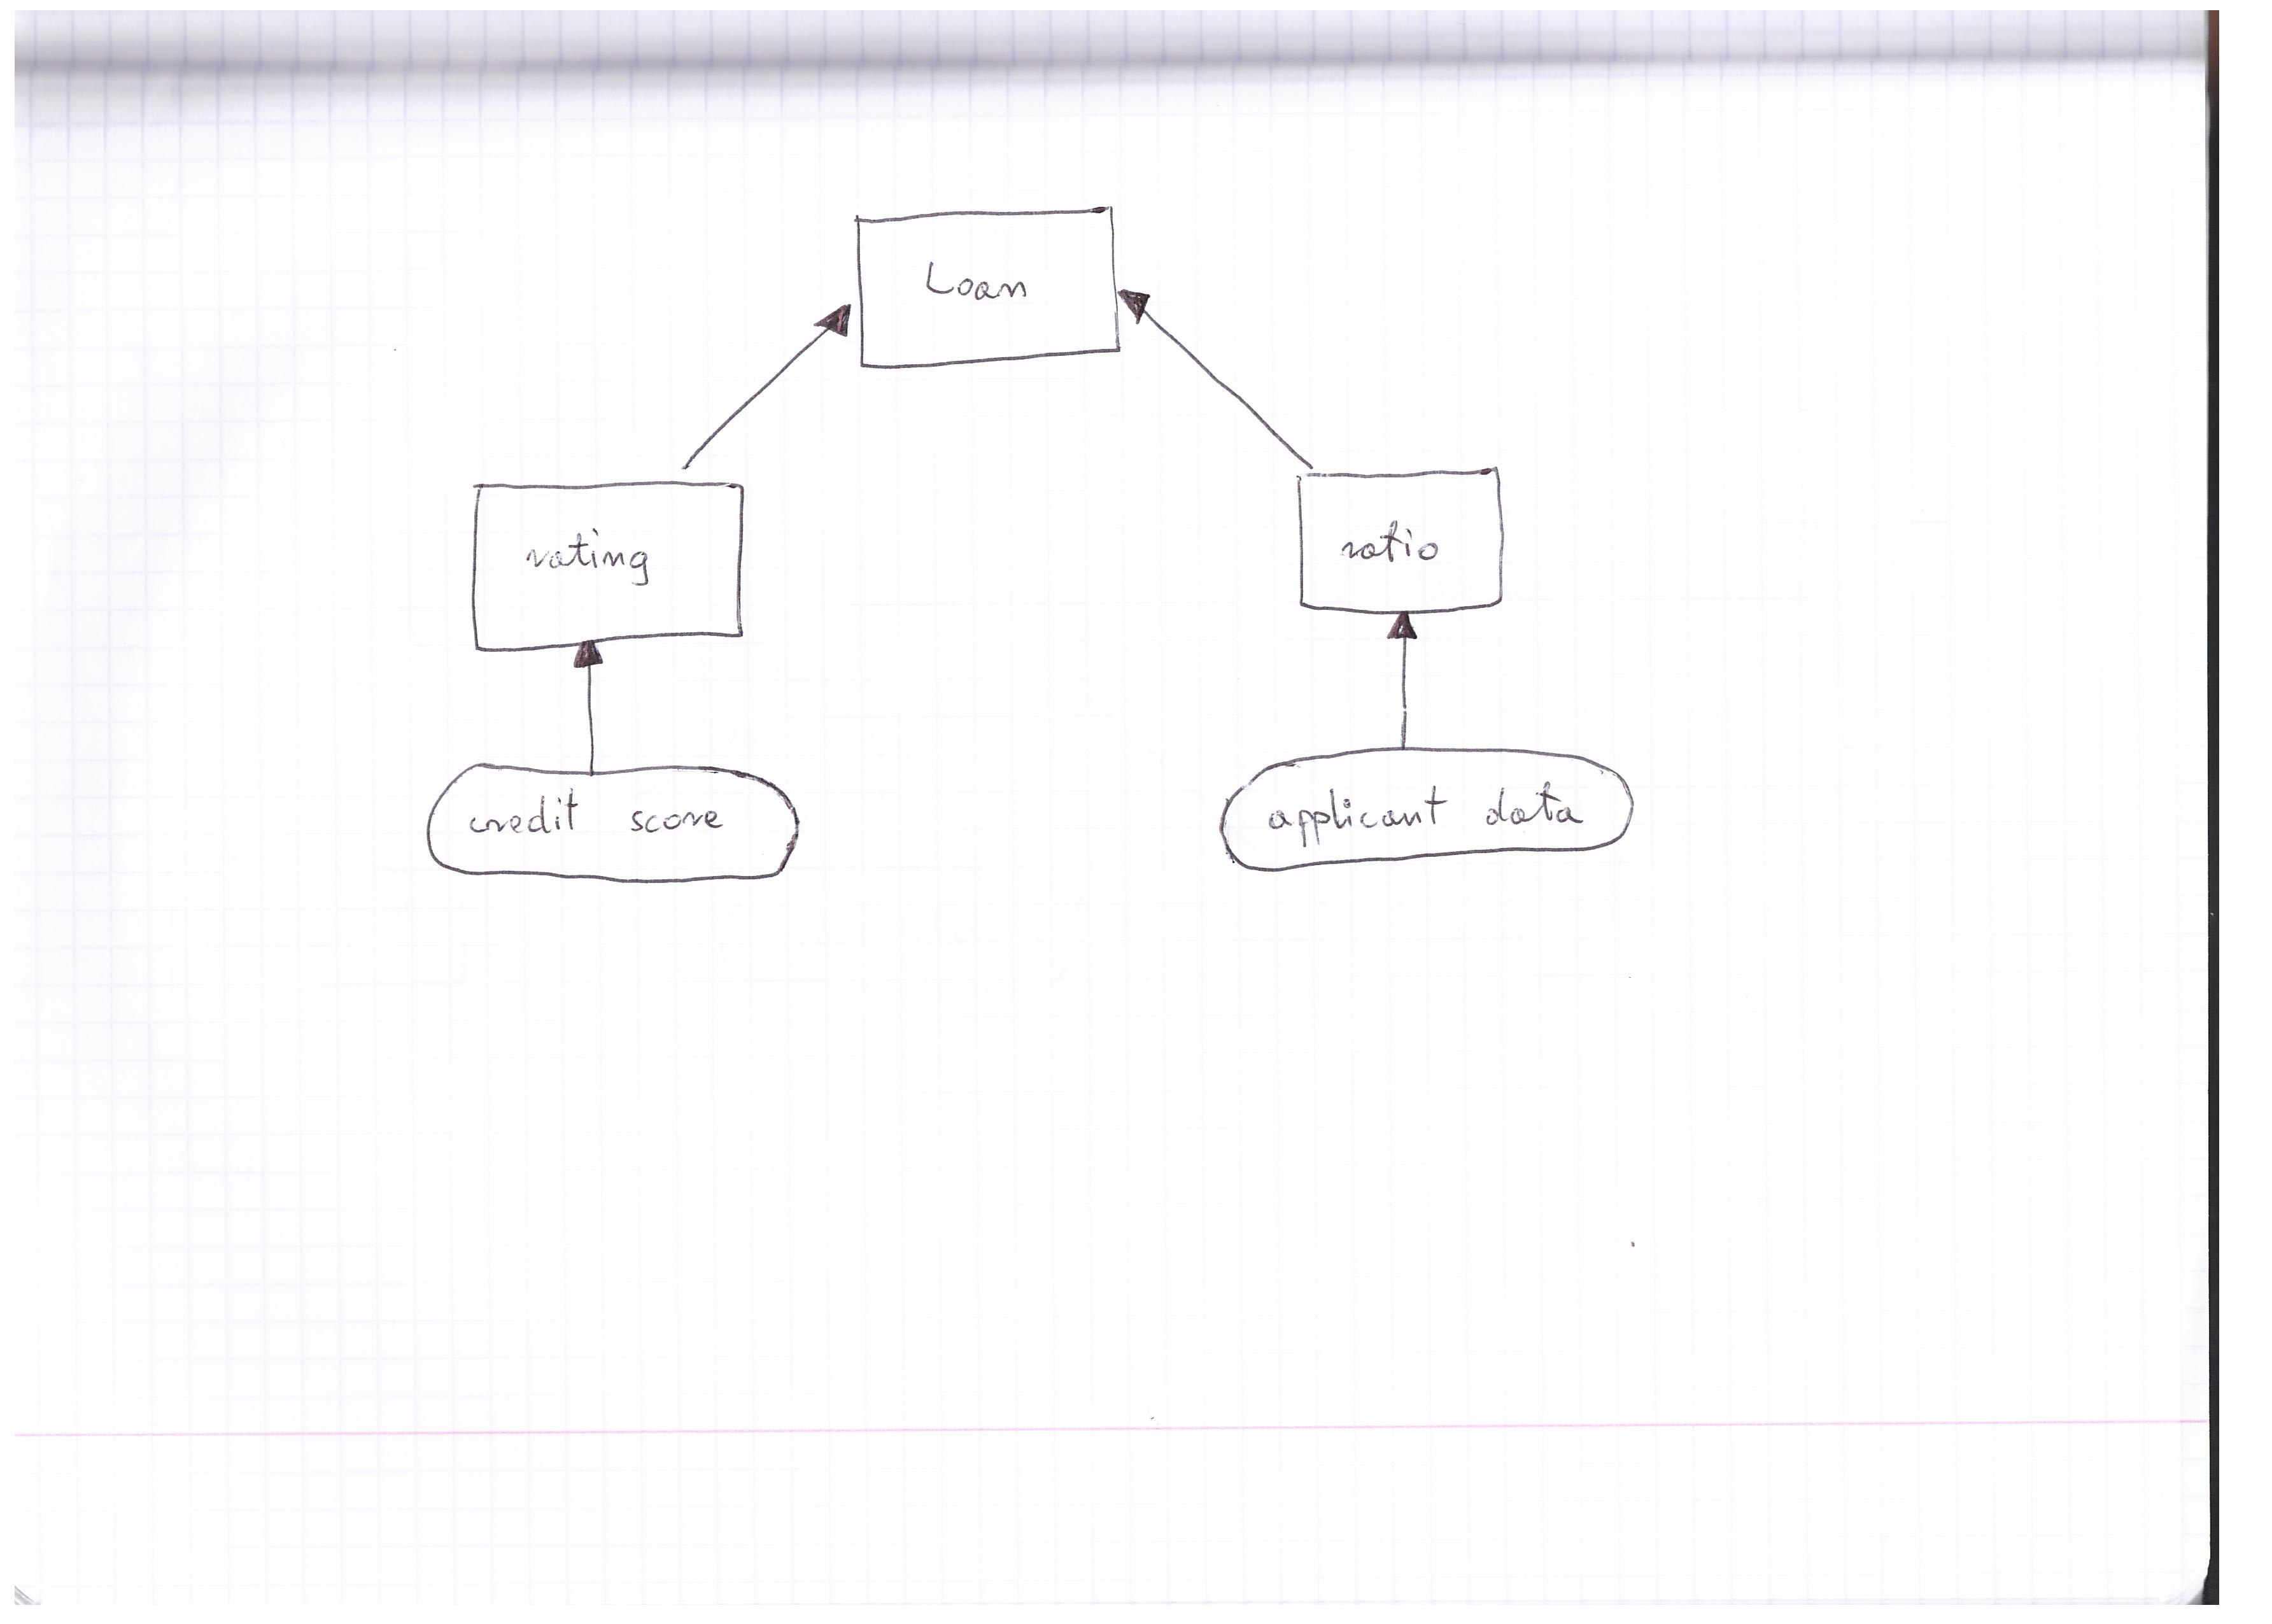arrow_information_requirement: (1114, 283, 1320, 475), (664, 299, 857, 478), (1378, 603, 1423, 743), (566, 629, 608, 775)
node_decision: (460, 475, 759, 654), (849, 199, 1128, 378), (1283, 464, 1513, 617)
node_input_data: (1218, 743, 1641, 895), (420, 756, 812, 898)
text: (1262, 773, 1592, 854), (460, 780, 742, 856), (510, 517, 669, 598), (907, 248, 1047, 325), (1334, 506, 1450, 578)
